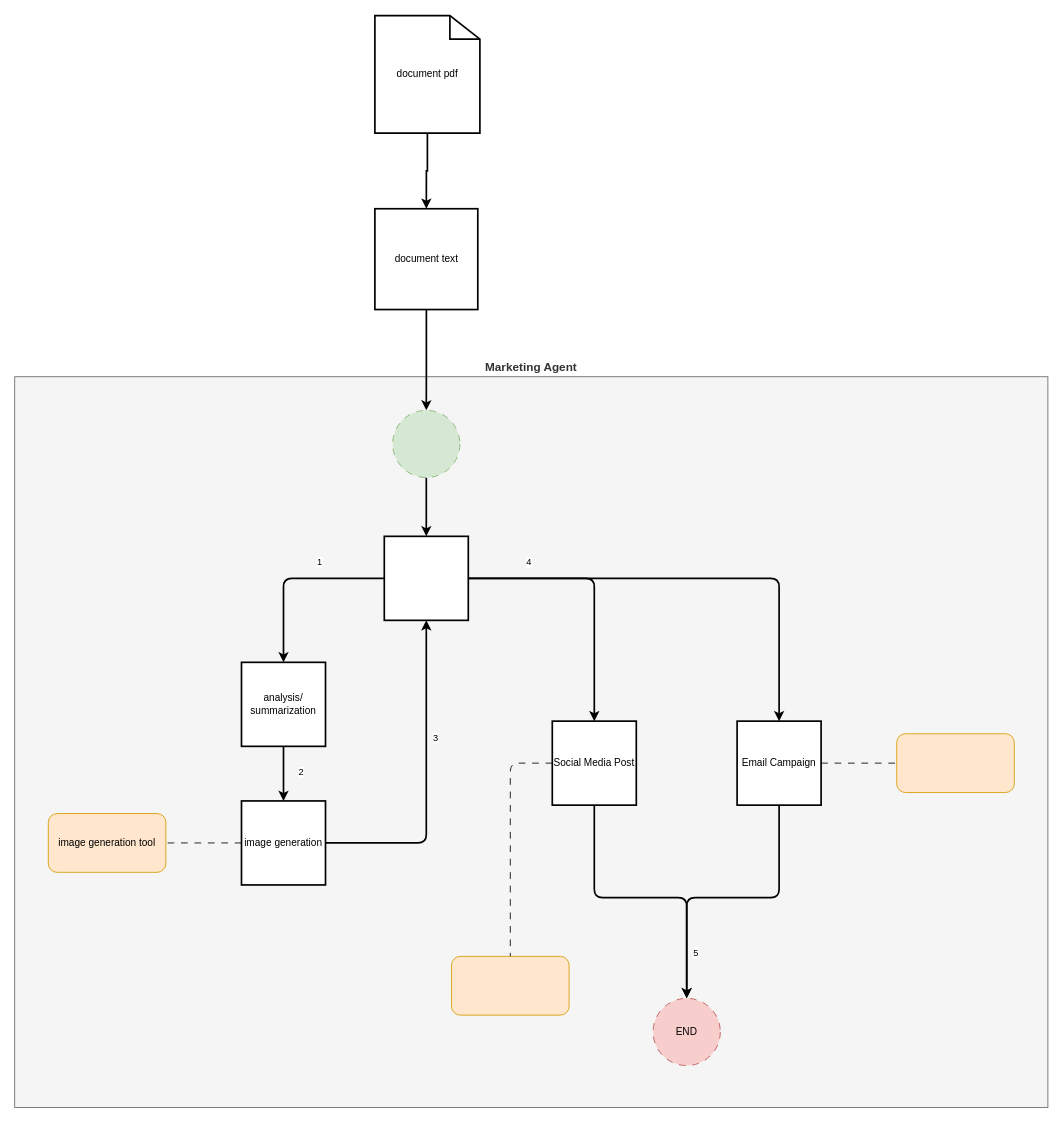
Some shapes in this 1063 by 1122 pixel diagram are drawn without their labels. The centre of each missing label's shape, as x and y in pixels:
email tool: the point at 955,763
orchestration: the point at 426,578
social media post tool: the point at 510,985
START: the point at 426,444
